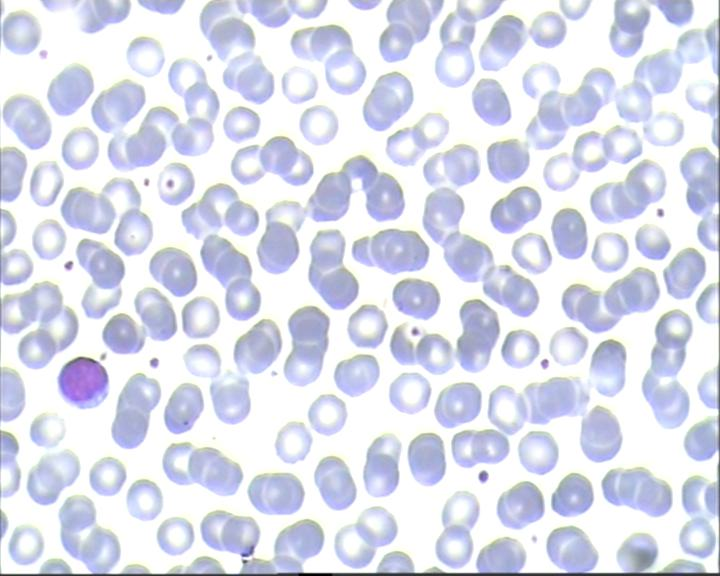lymp: (51, 354, 115, 414)
